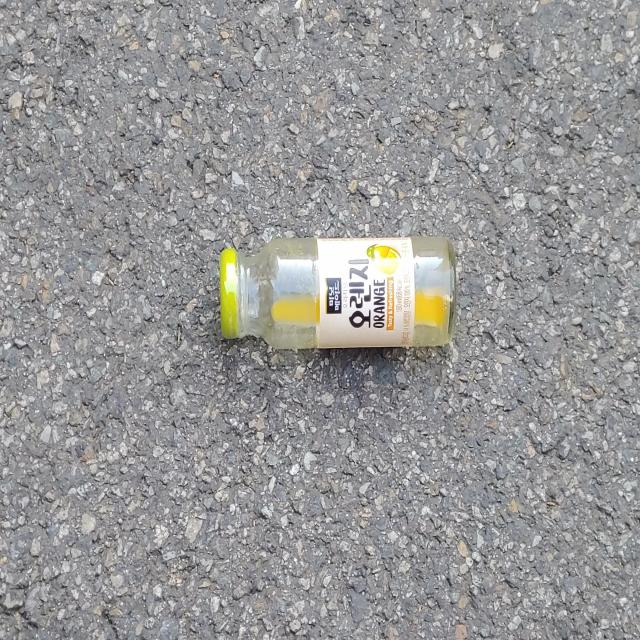glass: (220, 236, 456, 349)
